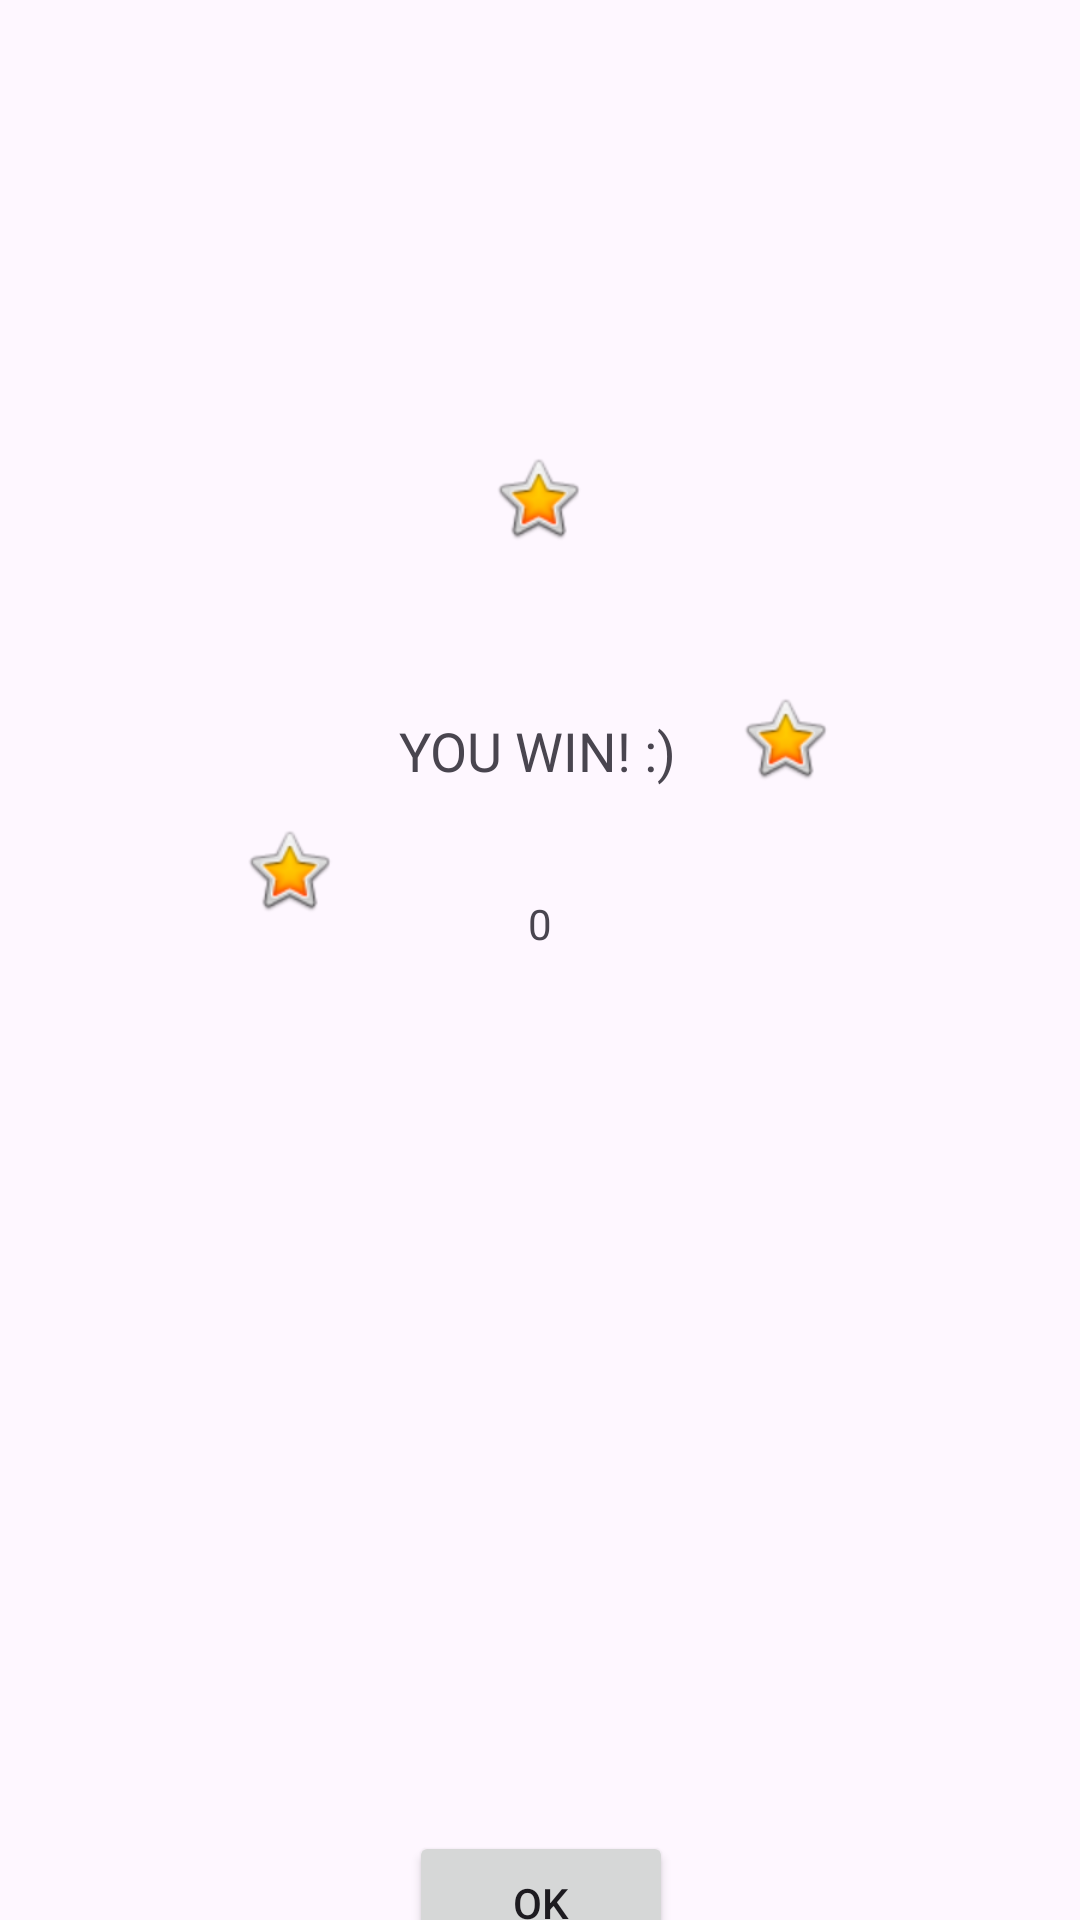

Where to tap for icons on this 1080 x 1920 app screen, as point (x, y):
star on: point (539, 499), point (786, 739), point (290, 871)
